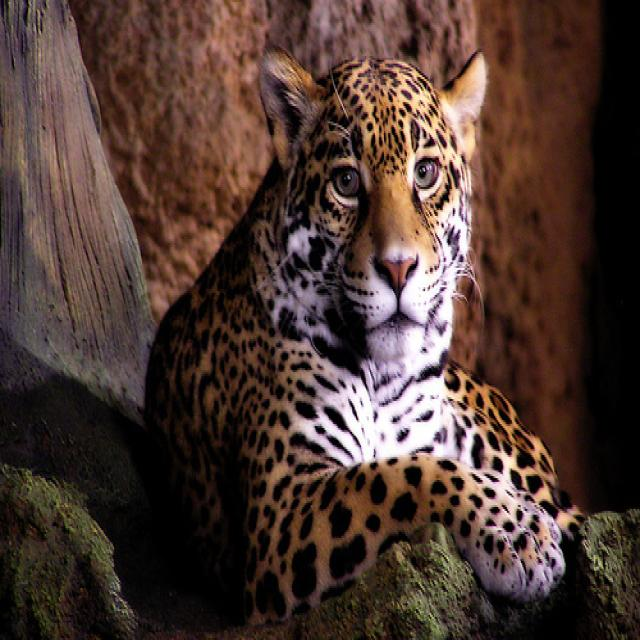Leopard: (142, 42, 584, 624)
